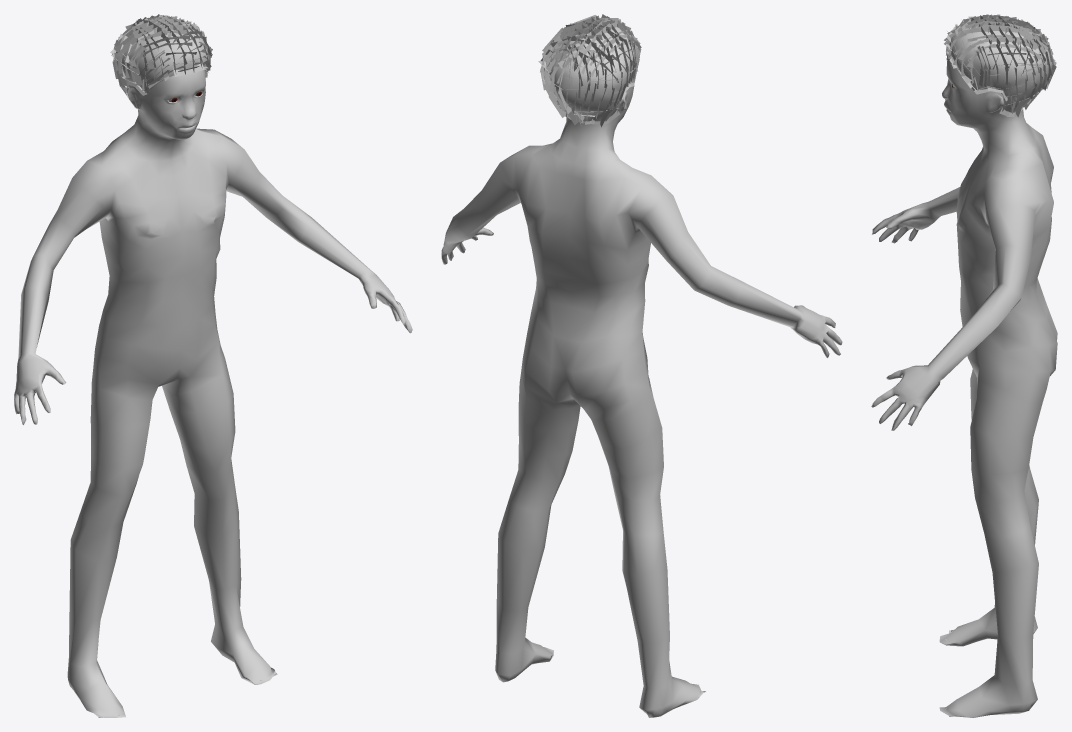
File: npc06.fbx
3 views of the same model, side by side, from view 1: azimuth 30°, elevation 25°; view 2: azimuth 150°, elevation 25°; view 3: azimuth 270°, elevation 25° (orthographic).
Parts seen in each view (by area): view 1: female1605Mesh, afro01Mesh; view 2: female1605Mesh, afro01Mesh; view 3: female1605Mesh, afro01Mesh.
Part boxes in pixels (bbox=[...]): female1605Mesh: bbox=[14, 70, 412, 717]; afro01Mesh: bbox=[110, 14, 212, 108]; female1605Mesh: bbox=[441, 83, 842, 717]; afro01Mesh: bbox=[538, 14, 641, 127]; female1605Mesh: bbox=[871, 59, 1057, 717]; afro01Mesh: bbox=[944, 14, 1056, 117].
Bounding box in the file's own units: 8.95 × 14.57 × 3.74.
